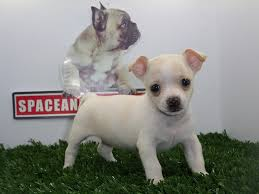chihuahua: (62, 46, 217, 182)
